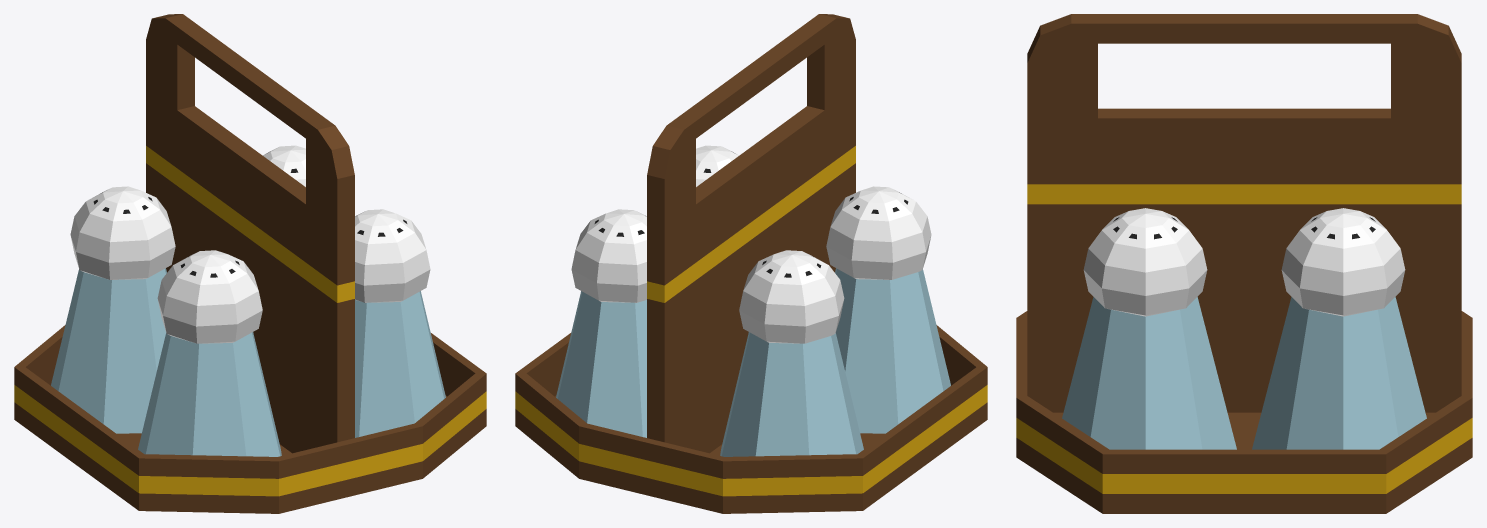
File: Portasaleros.fbx
The picture shows the model from 3 angles, left to right: view 1: azimuth 30°, elevation 25°; view 2: azimuth 150°, elevation 25°; view 3: azimuth 270°, elevation 25°; orthographic projection. The views are drawn at different scales.
Parts seen in each view (by area): view 1: Portasaleros; view 2: Portasaleros; view 3: Portasaleros.
Boxes of the visible parts, x1,y1,x2,y2 form: Portasaleros: (14,14,486,513); Portasaleros: (515,14,987,513); Portasaleros: (1016,14,1472,513).
Size of the model in its own units: 20.74 by 20 by 20.74.
